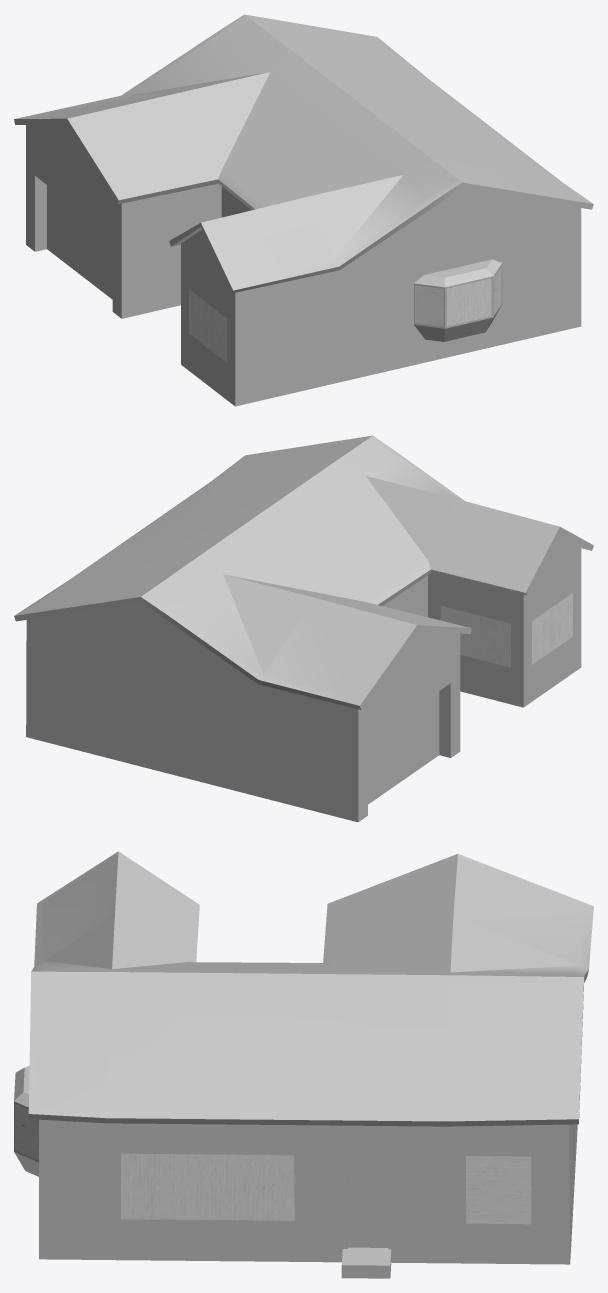
File: house_C.fbx
The picture shows the model from 3 angles, top to bottom: view 1: azimuth 30°, elevation 25°; view 2: azimuth 150°, elevation 25°; view 3: azimuth 270°, elevation 25°; orthographic projection. The views are drawn at different scales.
Parts seen in each view (by area): view 1: house_C_roof, house_C_base, house_C_windows, house_C_doors; view 2: house_C_roof, house_C_base, house_C_doors, house_C_windows; view 3: house_C_roof, house_C_base, house_C_windows, house_C_doors.
Part boxes in pixels (box(x1,y1,x2,y2)): house_C_roof: box(14, 14, 593, 293); house_C_base: box(26, 123, 581, 406); house_C_windows: box(189, 267, 500, 362); house_C_doors: box(47, 185, 112, 299); house_C_roof: box(14, 435, 593, 709); house_C_base: box(26, 533, 581, 822); house_C_doors: box(368, 691, 439, 804); house_C_windows: box(440, 593, 572, 667); house_C_roof: box(28, 851, 593, 1126); house_C_base: box(14, 1065, 577, 1278); house_C_windows: box(15, 1104, 531, 1224); house_C_doors: box(347, 1172, 388, 1247).
Bounding box in the file's own units: 17.28 × 7.64 × 18.64.
